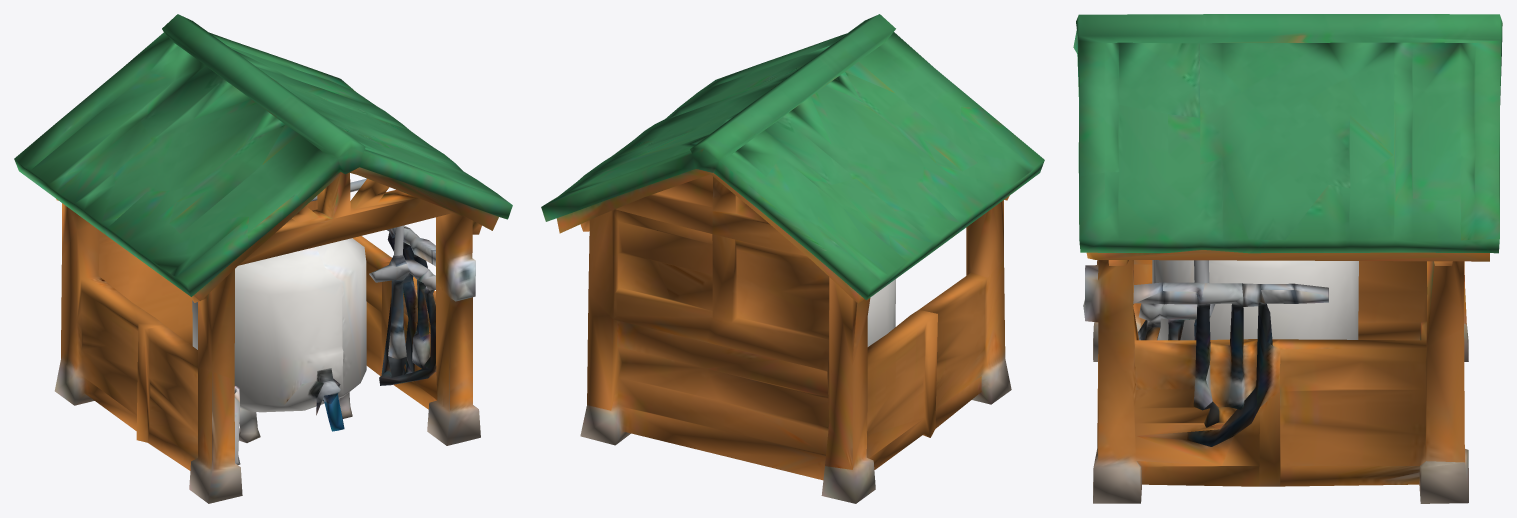
Rendered from dairy.glb.
The picture shows the model from 3 angles, left to right: view 1: azimuth 30°, elevation 25°; view 2: azimuth 150°, elevation 25°; view 3: azimuth 270°, elevation 25°; orthographic projection. The views are drawn at different scales.
Parts seen in each view (by area): view 1: model; view 2: model; view 3: model.
Part boxes in pixels (x1,y1,x2,y2): model: (14, 14, 512, 503); model: (541, 14, 1044, 503); model: (1073, 14, 1502, 503).
Size of the model in its own units: 1.9 by 1.86 by 1.77.
Materials: 1 (1 with a texture image).
